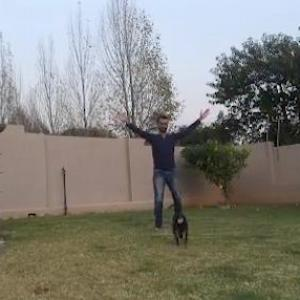takeoff: (112, 110, 206, 227)
